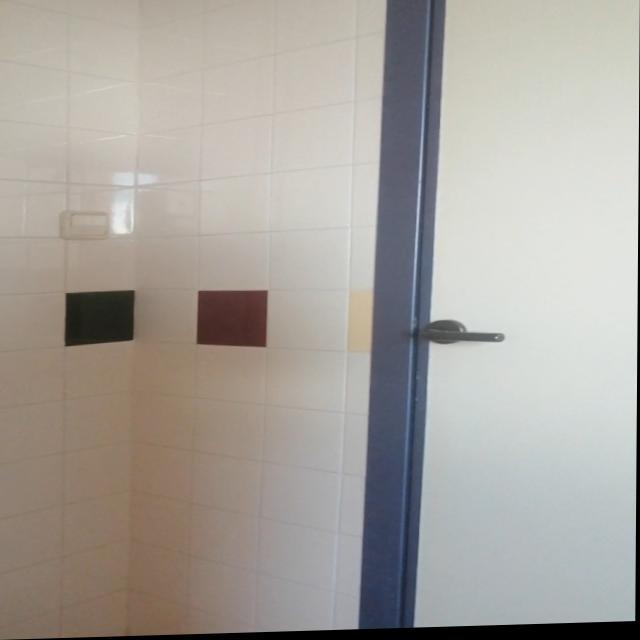door_handle: (410, 329, 511, 348)
